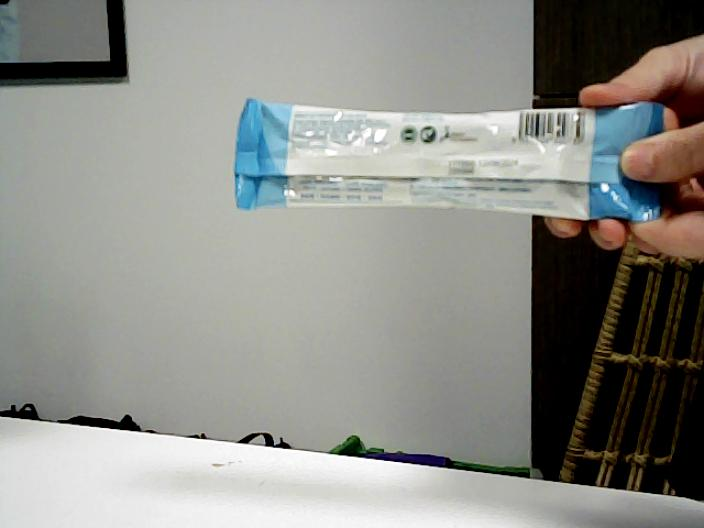Adult_Milk_0-99g_Halal_NonHealthy: (240, 102, 622, 219)
